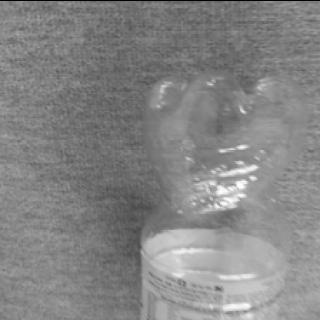plastic_bottles: (130, 54, 312, 320)
